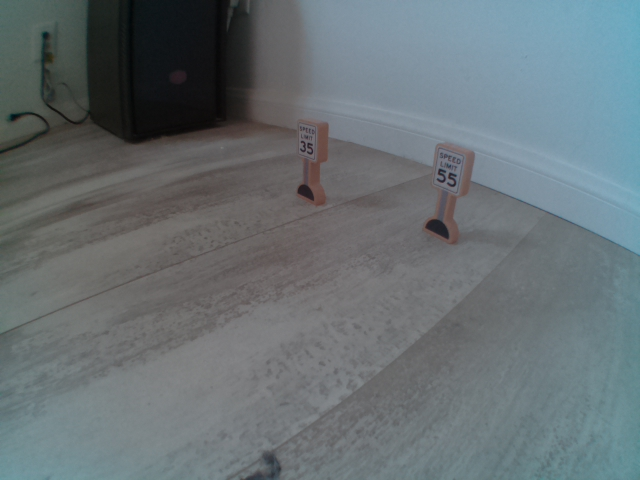Speed Limit 35: (295, 121, 320, 161)
Speed Limit 55: (430, 144, 465, 195)
